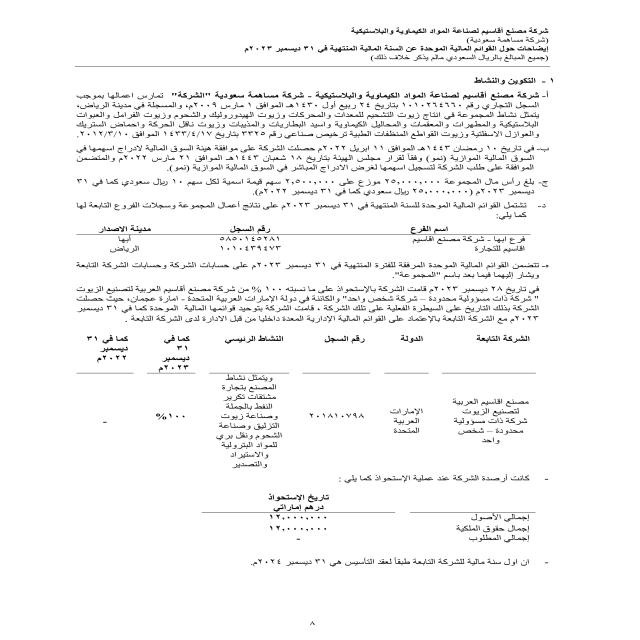notes: (383, 46, 552, 52)
table: (45, 329, 549, 461), (183, 470, 558, 553), (64, 210, 534, 260)
